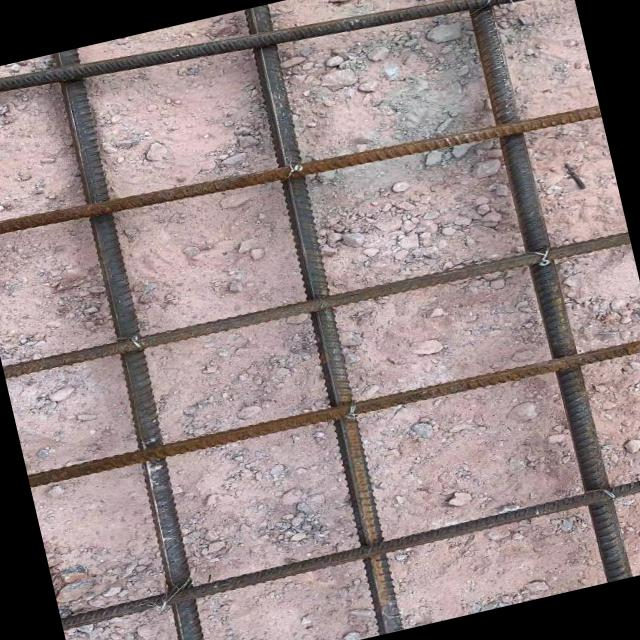ribbed bar: (235, 4, 412, 634), (0, 82, 600, 260), (39, 48, 218, 640), (2, 222, 630, 387), (27, 331, 640, 492), (460, 0, 629, 581), (59, 468, 640, 629), (0, 0, 572, 136)
